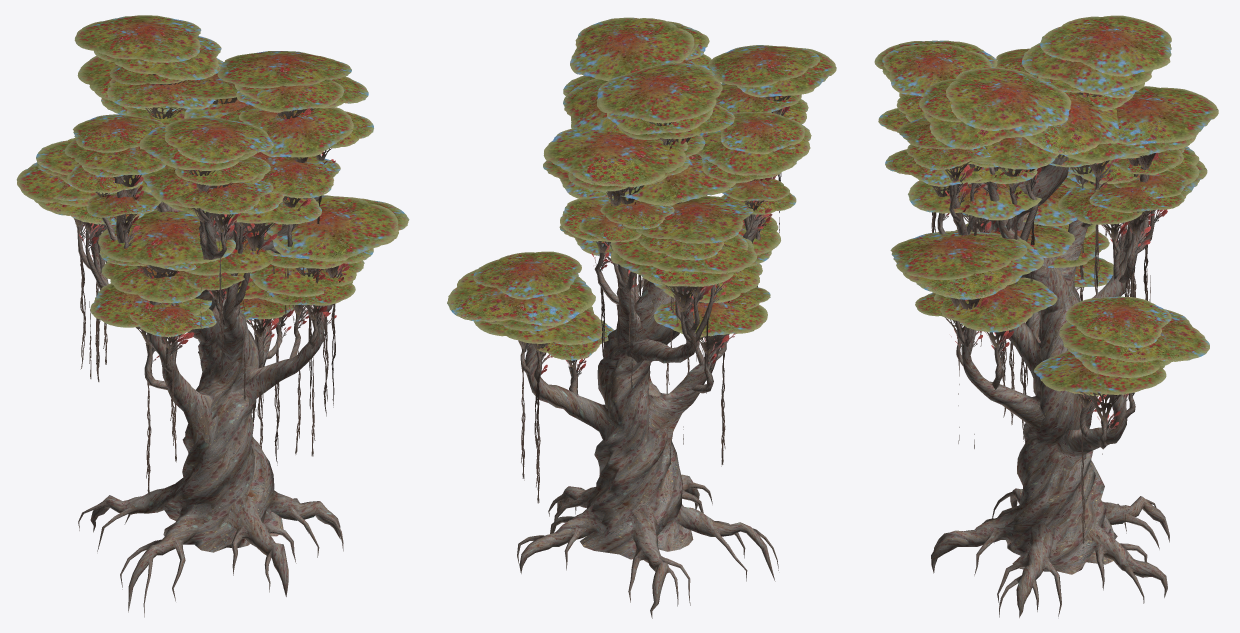
The model's file is Tree - Alien Shroomtree 02 2-C-i-5z8p.glb.
The picture shows the model from 3 angles, left to right: view 1: azimuth 30°, elevation 25°; view 2: azimuth 150°, elevation 25°; view 3: azimuth 270°, elevation 25°; orthographic projection. The views are drawn at different scales.
Visible parts, largest first — view 1: Shroomtree_02_2(Clone); view 2: Shroomtree_02_2(Clone); view 3: Shroomtree_02_2(Clone).
Part boxes in pixels (<box>): Shroomtree_02_2(Clone): <box>16,15,409,617</box>; Shroomtree_02_2(Clone): <box>447,17,836,618</box>; Shroomtree_02_2(Clone): <box>874,15,1218,617</box>.
Size of the model in its own units: 4.45 by 7.25 by 4.42.
Materials: 3 (3 with a texture image).
